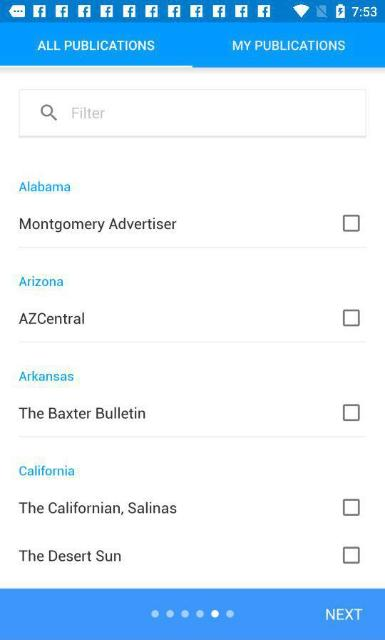CheckedTextView: (18, 498, 360, 516), (18, 545, 360, 563), (19, 309, 360, 327), (19, 403, 360, 421), (20, 214, 360, 232)
EditText: (18, 89, 366, 138)
Icon: (40, 104, 58, 120)
List: (18, 178, 360, 566)
Multi_Tab: (0, 24, 385, 67)
PageIndicator: (150, 608, 234, 618)
Text: (17, 500, 176, 514), (19, 218, 176, 232), (18, 406, 145, 418), (19, 548, 122, 562), (38, 40, 154, 51), (232, 40, 346, 50), (17, 312, 84, 324), (18, 370, 74, 382), (19, 464, 75, 476), (19, 180, 71, 192), (19, 275, 63, 287), (326, 608, 362, 620), (72, 106, 104, 118)
UpperTaskBar: (0, 0, 384, 22)
